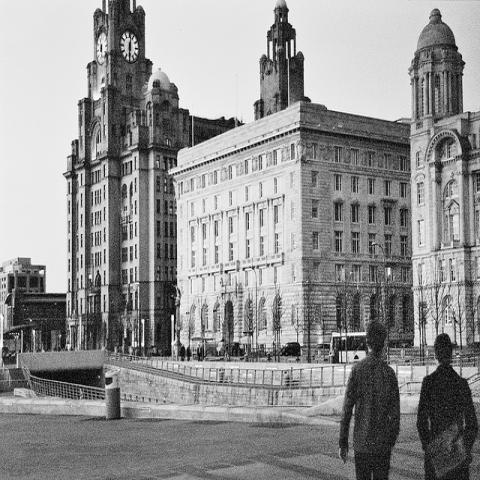bus: (329, 332, 368, 364)
car: (279, 342, 299, 357)
